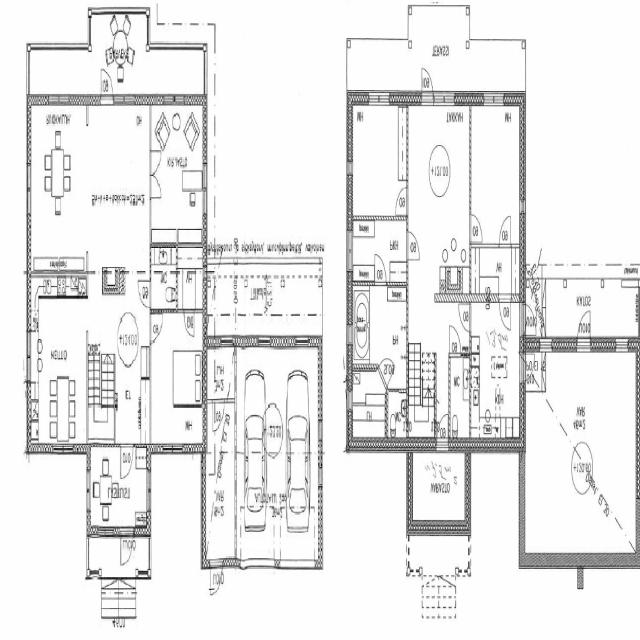door: (578, 302, 592, 351), (210, 558, 224, 604), (378, 350, 393, 390), (421, 59, 434, 104), (100, 62, 113, 107), (519, 353, 537, 384), (519, 304, 537, 334), (120, 525, 132, 569), (437, 409, 448, 452), (121, 441, 133, 476), (213, 397, 225, 432), (406, 232, 420, 260), (499, 294, 510, 329), (374, 252, 386, 284), (458, 305, 472, 332), (395, 187, 408, 215), (183, 309, 194, 340), (150, 315, 162, 343), (470, 214, 482, 241), (500, 215, 510, 247), (139, 281, 151, 307), (149, 174, 161, 198), (149, 150, 161, 174), (451, 330, 461, 358)
